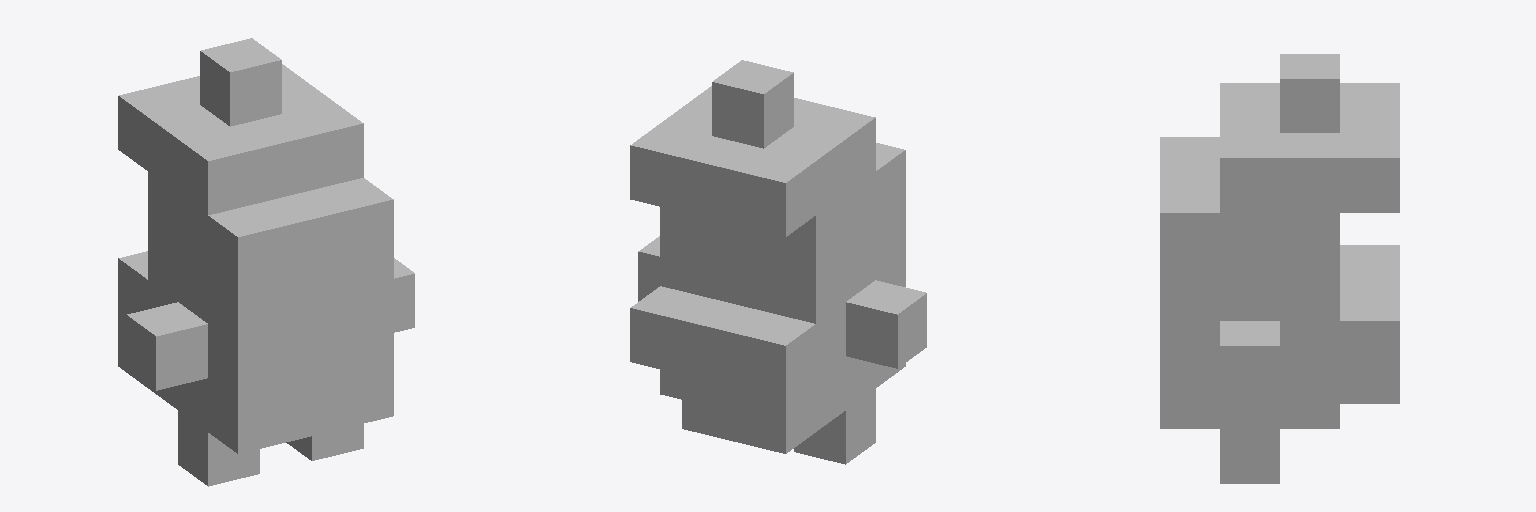
The model's file is GnomeBanana.obj.
The picture shows the model from 3 angles: view 1: azimuth 30°, elevation 25°; view 2: azimuth 150°, elevation 25°; view 3: azimuth 270°, elevation 25°; orthographic projection.
Parts seen in each view (by area): view 1: GnomeBanana; view 2: GnomeBanana; view 3: GnomeBanana.
Part boxes in pixels (bbox=[...]): GnomeBanana: bbox=[118, 38, 414, 486]; GnomeBanana: bbox=[630, 60, 926, 464]; GnomeBanana: bbox=[1160, 54, 1399, 483].
Bounding box in the file's own units: 0.5 × 0.7 × 0.4.